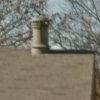Chimney: (23, 10, 55, 63)
